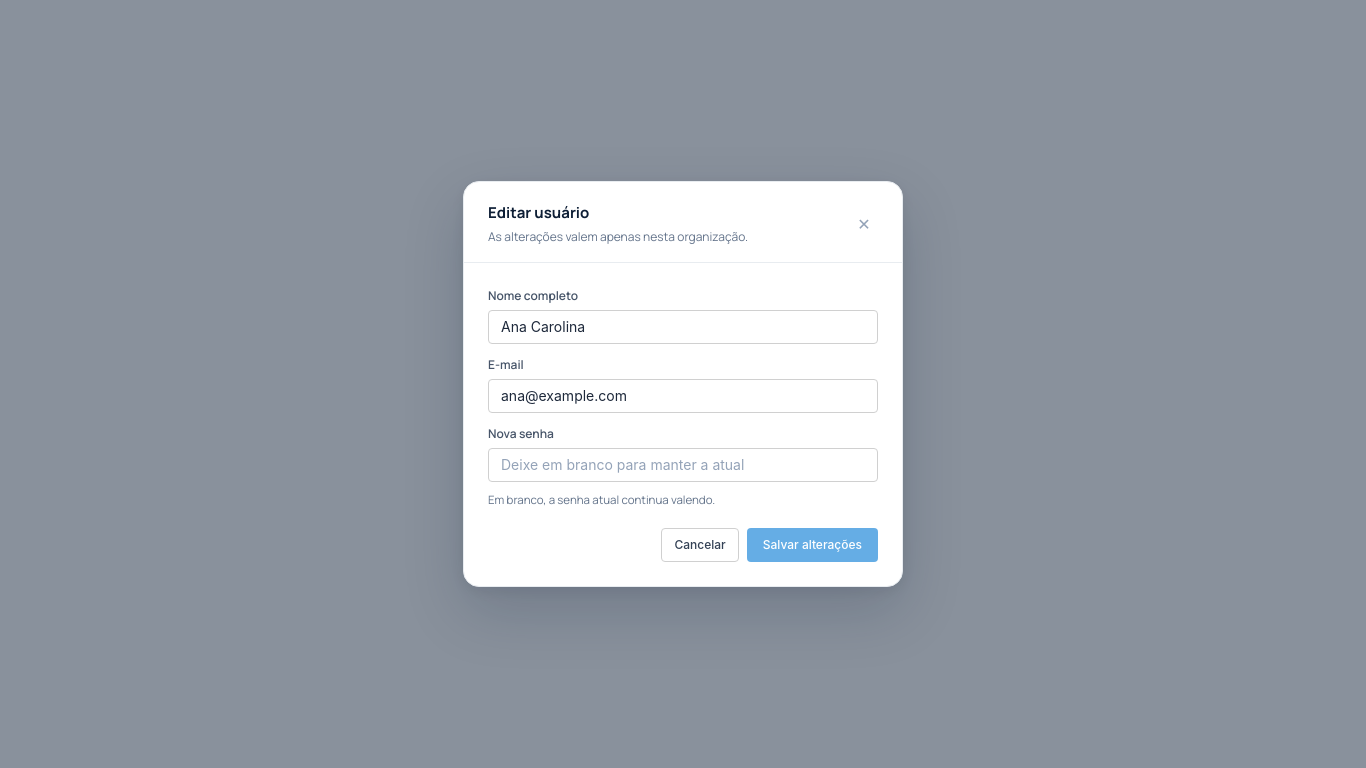
Test case: EditUserModal › mostra o erro do backend sem fechar
Replace the text in the field labelled "E-mail" with "duplicado@example.com" at (683, 395), box [488,378,878,412]
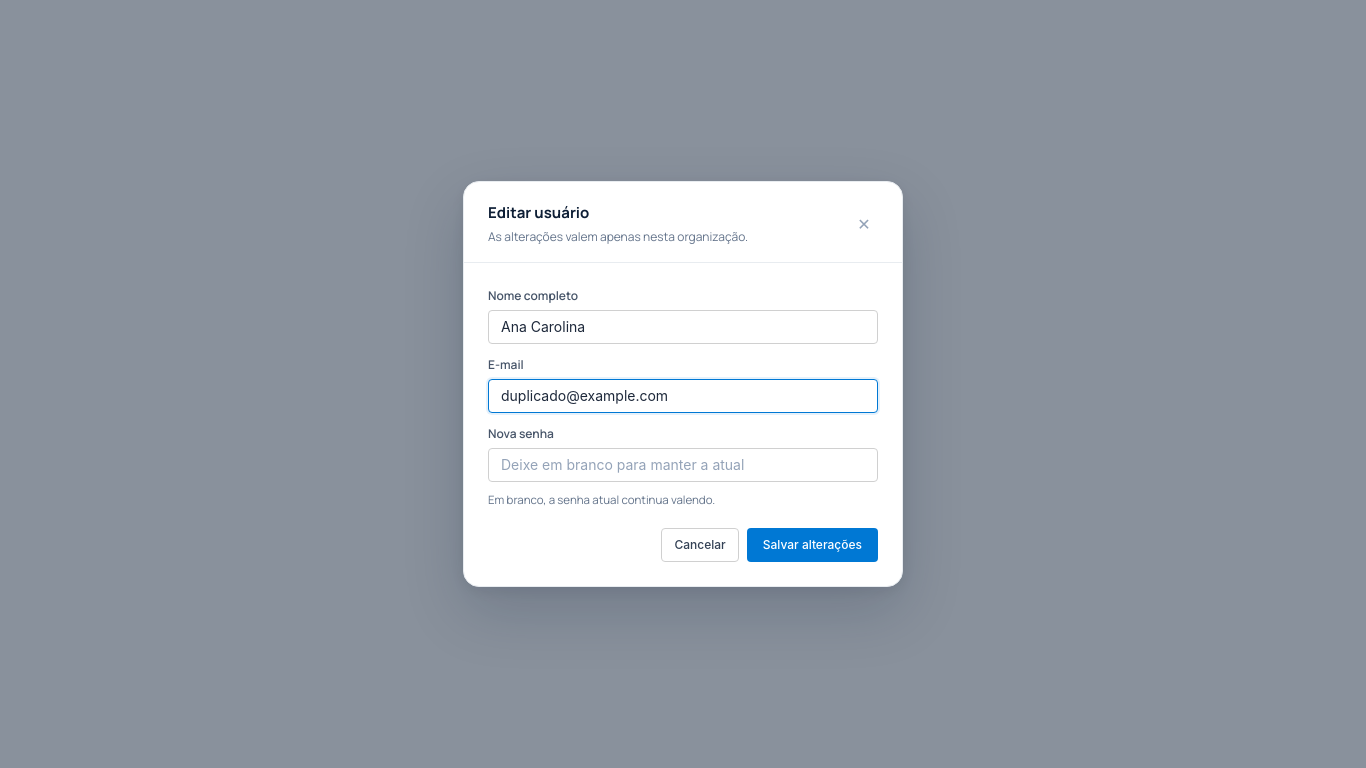
Click the button "Salvar alterações" at (812, 545), box [747,528,878,562]
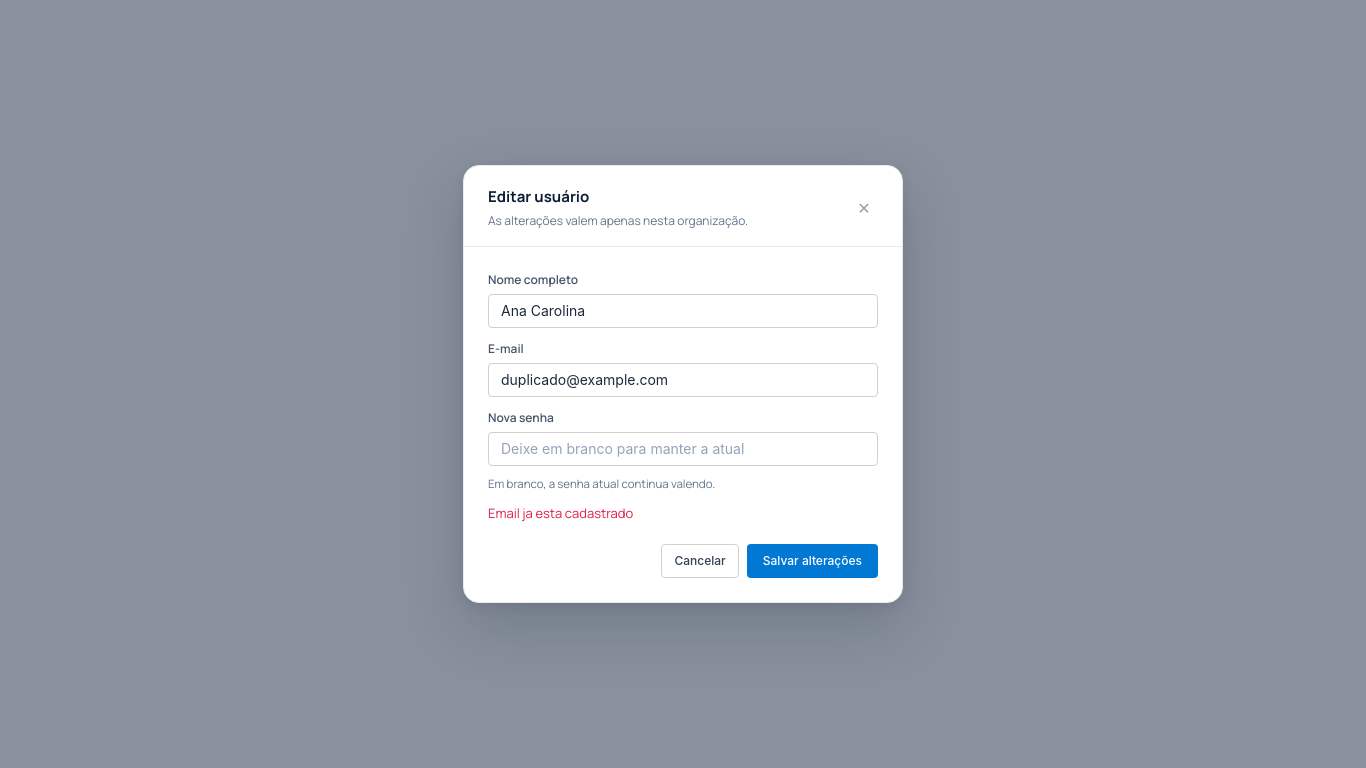
expect the text "Email ja esta cadastrado" is shown: met, box [488,504,633,522]
